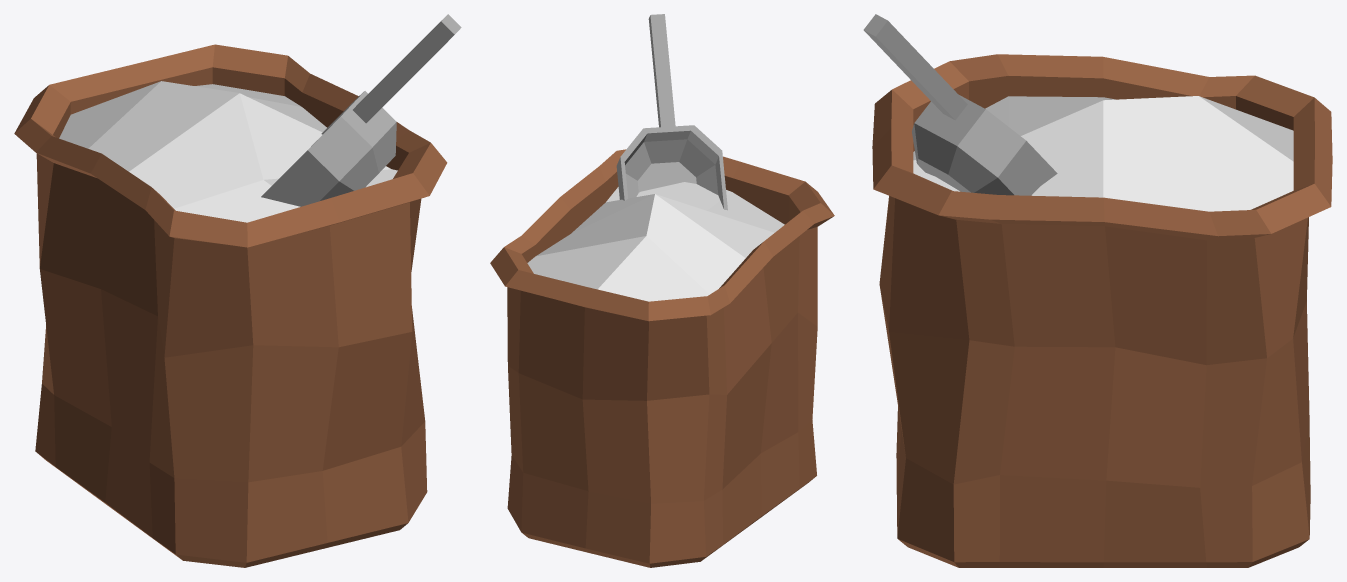
File: Flour.fbx
3 views of the same model, side by side, from view 1: azimuth 30°, elevation 25°; view 2: azimuth 150°, elevation 25°; view 3: azimuth 270°, elevation 25° (orthographic). The views are drawn at different scales.
Visible parts, largest first — view 1: FlourBag; view 2: FlourBag; view 3: FlourBag.
Boxes of the visible parts, x1=… form: FlourBag: x1=14, y1=14, x2=461, y2=567; FlourBag: x1=490, y1=14, x2=834, y2=567; FlourBag: x1=863, y1=14, x2=1332, y2=567.
Size of the model in its own units: 24.96 by 43.65 by 33.95.
